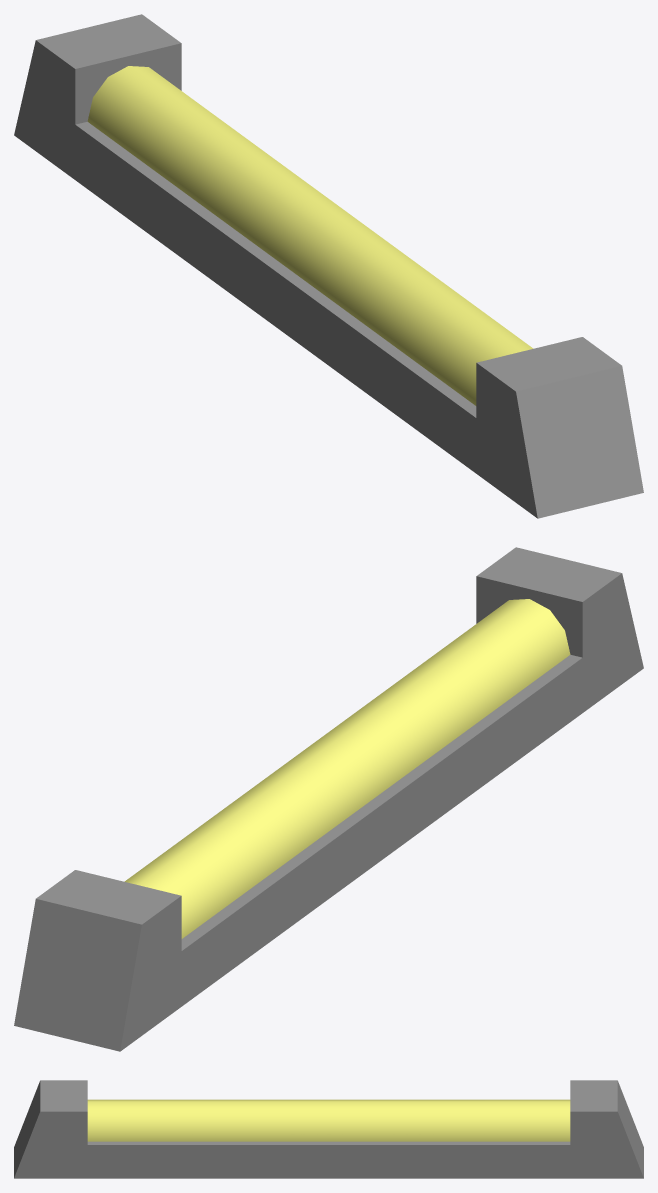
Rendered from Neon.fbx.
3 renders of one model, top to bottom at view 1: azimuth 30°, elevation 25°; view 2: azimuth 150°, elevation 25°; view 3: azimuth 270°, elevation 25°, orthographic. The views are drawn at different scales.
Parts seen in each view (by area): view 1: Neon; view 2: Neon; view 3: Neon.
Boxes of the visible parts, left/top/right/bottom form: Neon: left=14, top=14, right=643, bottom=518; Neon: left=14, top=547, right=643, bottom=1051; Neon: left=14, top=1080, right=643, bottom=1178.
Size of the model in its own units: 0.5194 by 4.44 by 0.5194.
